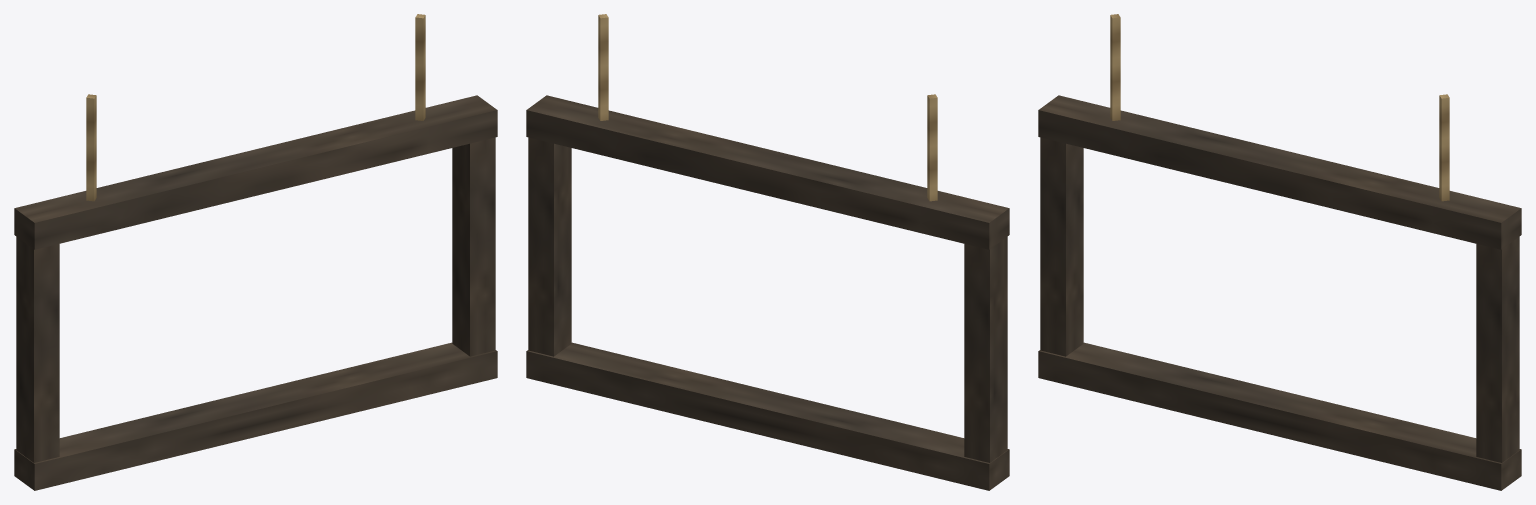
The model's file is SM_Sign_Hanging.fbx.
3 renders of one model, left to right at view 1: azimuth 30°, elevation 25°; view 2: azimuth 150°, elevation 25°; view 3: azimuth 330°, elevation 25°, orthographic.
Visible parts, largest first — view 1: SM_Sign_Hanging; view 2: SM_Sign_Hanging; view 3: SM_Sign_Hanging.
Part boxes in pixels (x1,y1,x2,y2): SM_Sign_Hanging: (14, 14, 497, 490); SM_Sign_Hanging: (526, 14, 1009, 490); SM_Sign_Hanging: (1038, 14, 1521, 490).
Size of the model in its own units: 4.5 by 3.45 by 0.34.
1 material, 1 textured.
